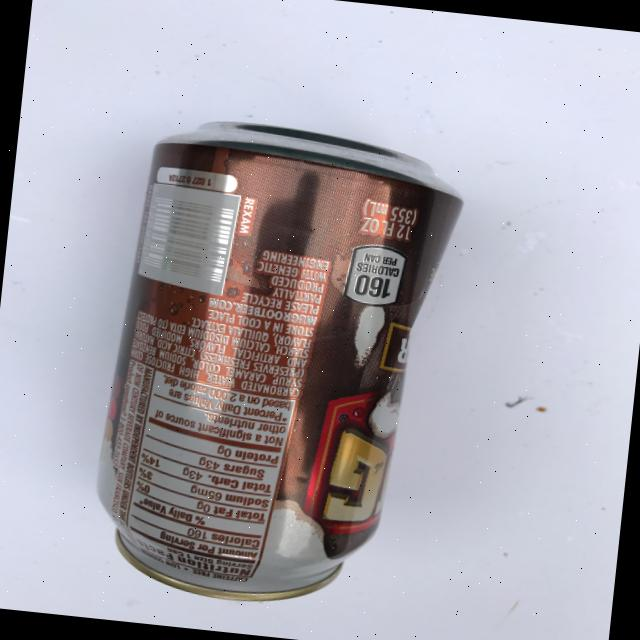metal: (86, 109, 470, 620)
